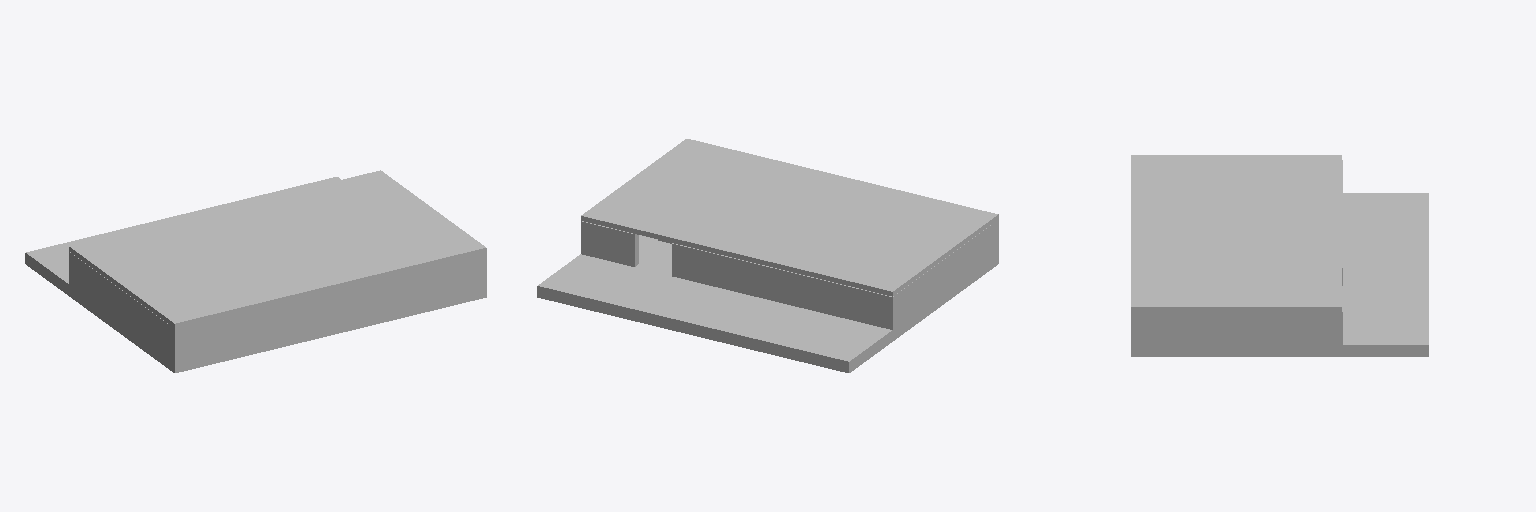
The model's file is Level3.obj.
3 views of the same model, side by side, from view 1: azimuth 30°, elevation 25°; view 2: azimuth 150°, elevation 25°; view 3: azimuth 270°, elevation 25° (orthographic).
Visible parts, largest first — view 1: Level3; view 2: Level3; view 3: Level3.
Part boxes in pixels (left/top/right/bottom): Level3: left=25, top=170, right=486, bottom=372; Level3: left=537, top=139, right=998, bottom=372; Level3: left=1131, top=155, right=1428, bottom=356.
Bounding box in the file's own units: 27.7 × 4.24 × 22.97.